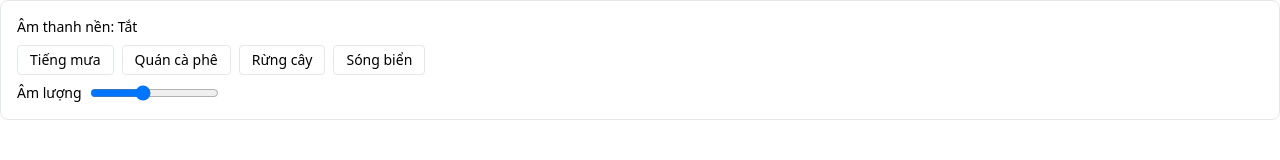
Test: WhiteNoisePlayer › stops and pauses when clicking the active sound again
Click the button "Tiếng mưa" at x=65, y=60, box [17,45,114,75]
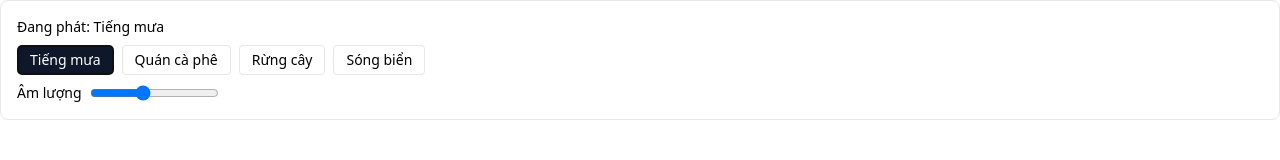
Click the button "Tiếng mưa" at x=65, y=60, box [17,45,114,75]
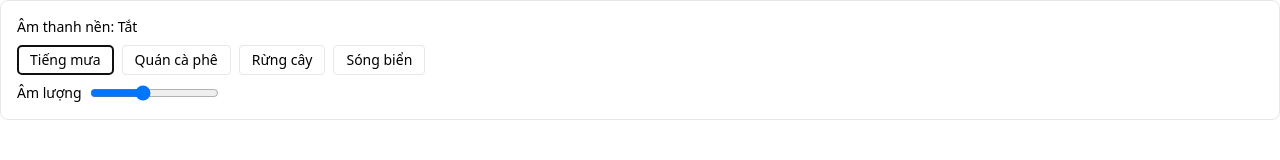
Check: the text with test id "noise-state" shows "Tắt", box [17,17,137,36]
